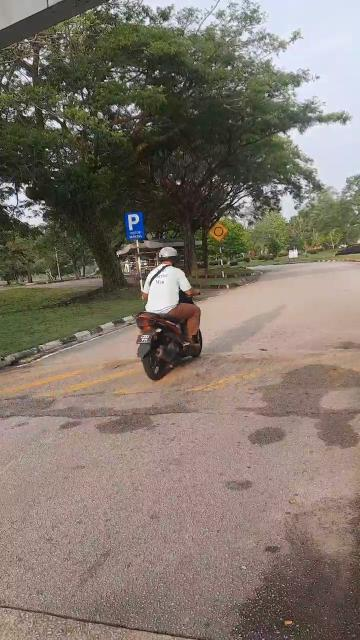motorcycle: (134, 244, 214, 382)
